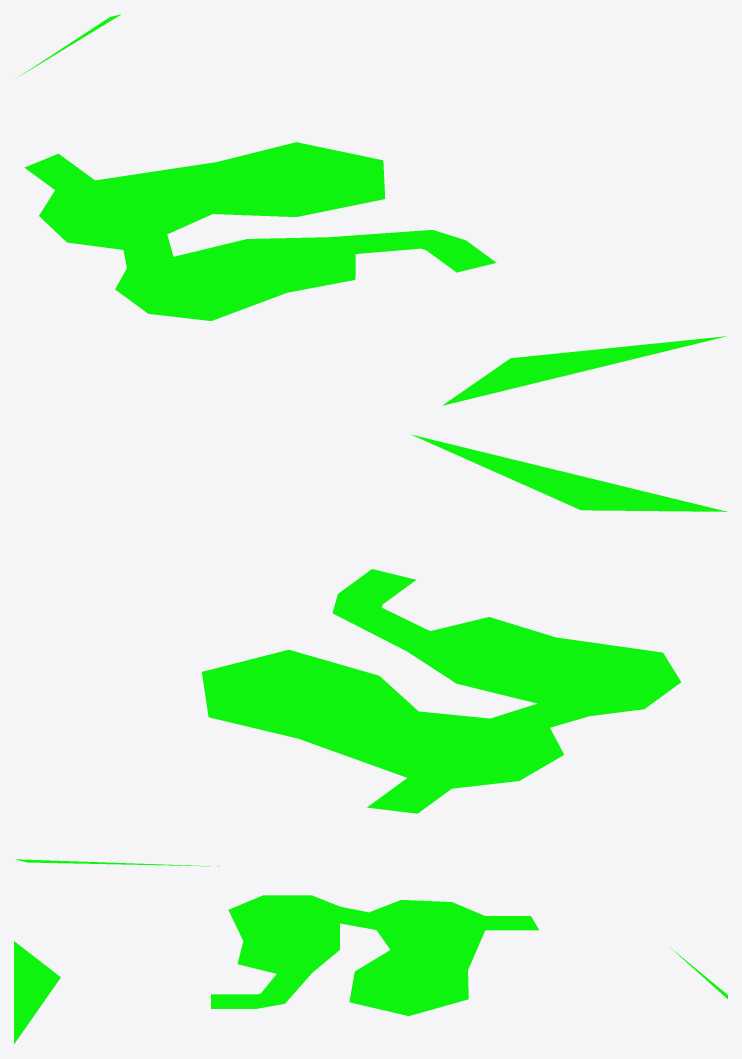
The model's file is s01a_ic1-floor.glb.
3 renders of one model, top to bottom at view 1: azimuth 30°, elevation 25°; view 2: azimuth 150°, elevation 25°; view 3: azimuth 270°, elevation 25°, orthographic. The views are drawn at different scales.
Visible parts, largest first — view 1: collision_floor-colonly; view 2: collision_floor-colonly; view 3: collision_floor-colonly.
Part boxes in pixels (<box>): collision_floor-colonly: <box>17,14,725,405</box>; collision_floor-colonly: <box>15,434,727,866</box>; collision_floor-colonly: <box>14,895,727,1043</box>.
Bounding box in the file's own units: 61.75 × 0 × 125.
